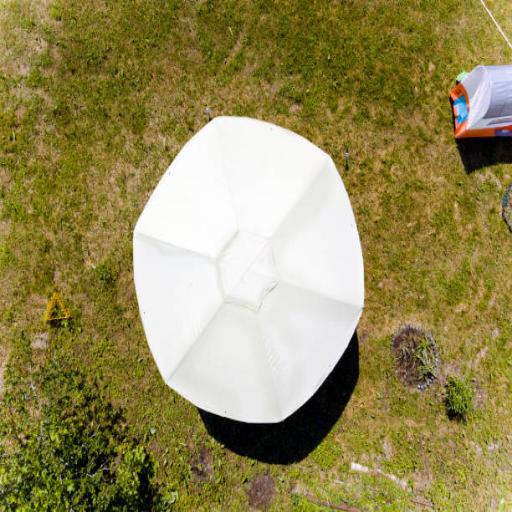Tent: (133, 115, 368, 426), (450, 64, 512, 142)
